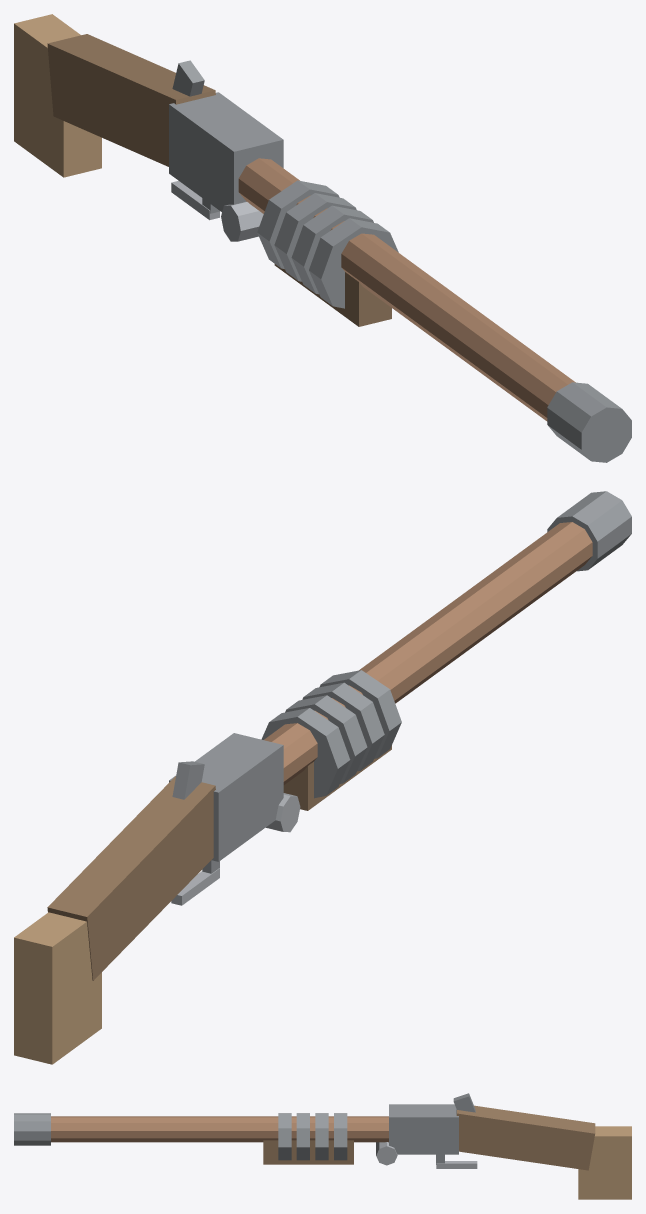
Rendered from pipe_shotgun.glb.
3 views of the same model, one above another, from view 1: azimuth 30°, elevation 25°; view 2: azimuth 150°, elevation 25°; view 3: azimuth 270°, elevation 25° (orthographic). The views are drawn at different scales.
Parts seen in each view (by area): view 1: pipe_shotgun; view 2: pipe_shotgun; view 3: pipe_shotgun.
Part boxes in pixels (x1=…): pipe_shotgun: x1=14, y1=14, x2=631, y2=462; pipe_shotgun: x1=14, y1=491, x2=631, y2=1064; pipe_shotgun: x1=14, y1=1093, x2=631, y2=1199.
Bounding box in the file's own units: 0.122 × 0.2677 × 1.5.
